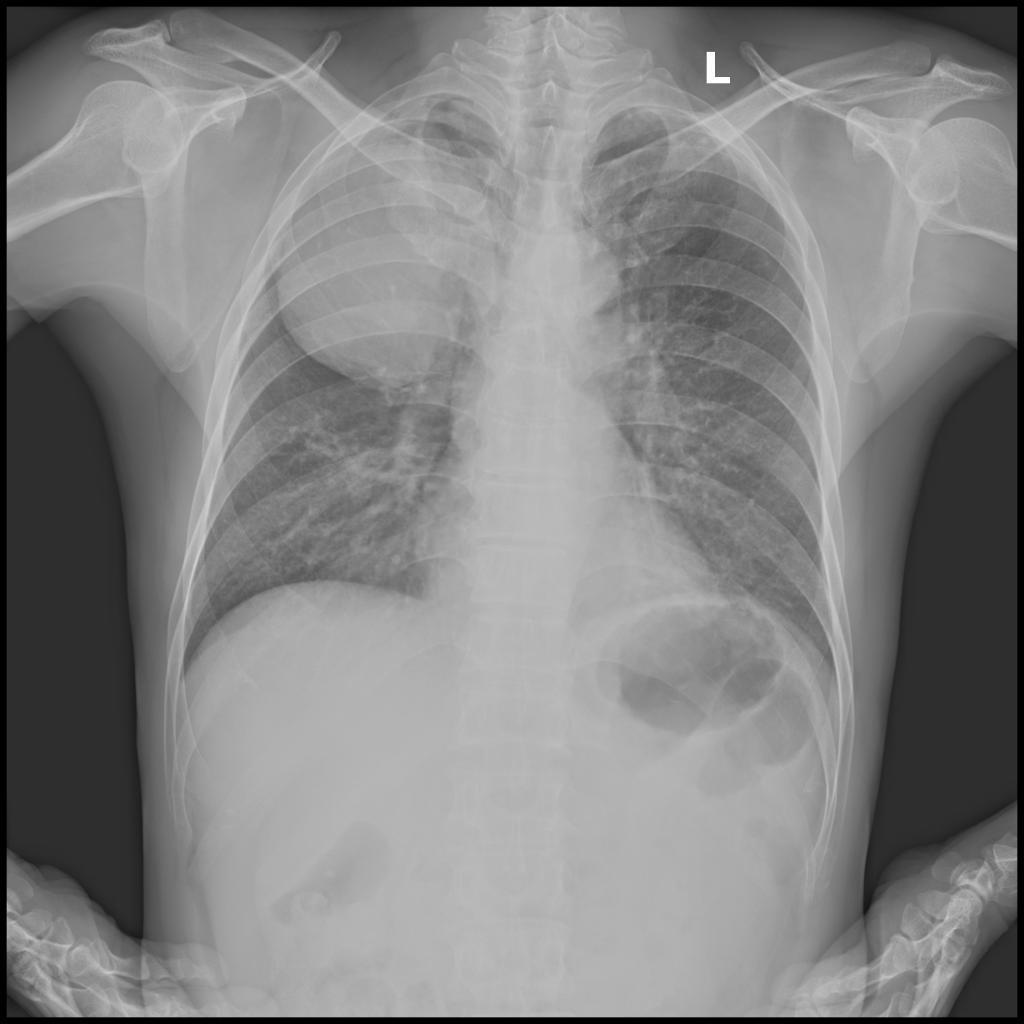Nodule: (283, 120, 488, 388)
